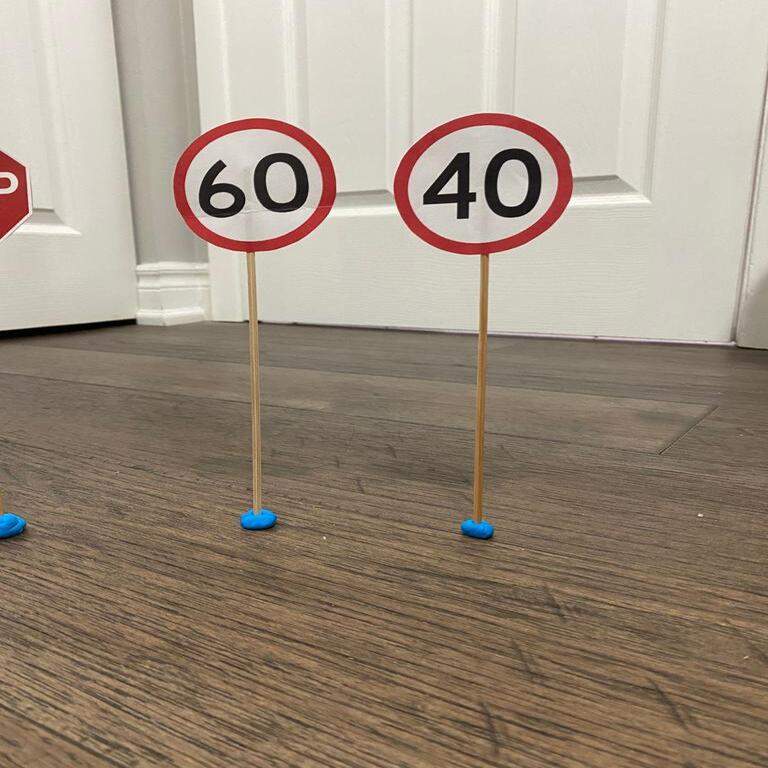Speed Limit 40: (390, 112, 578, 261)
Speed Limit 60: (167, 115, 341, 257)
